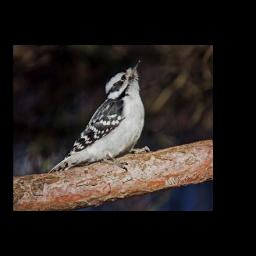Woodpecker: (49, 57, 154, 173)
